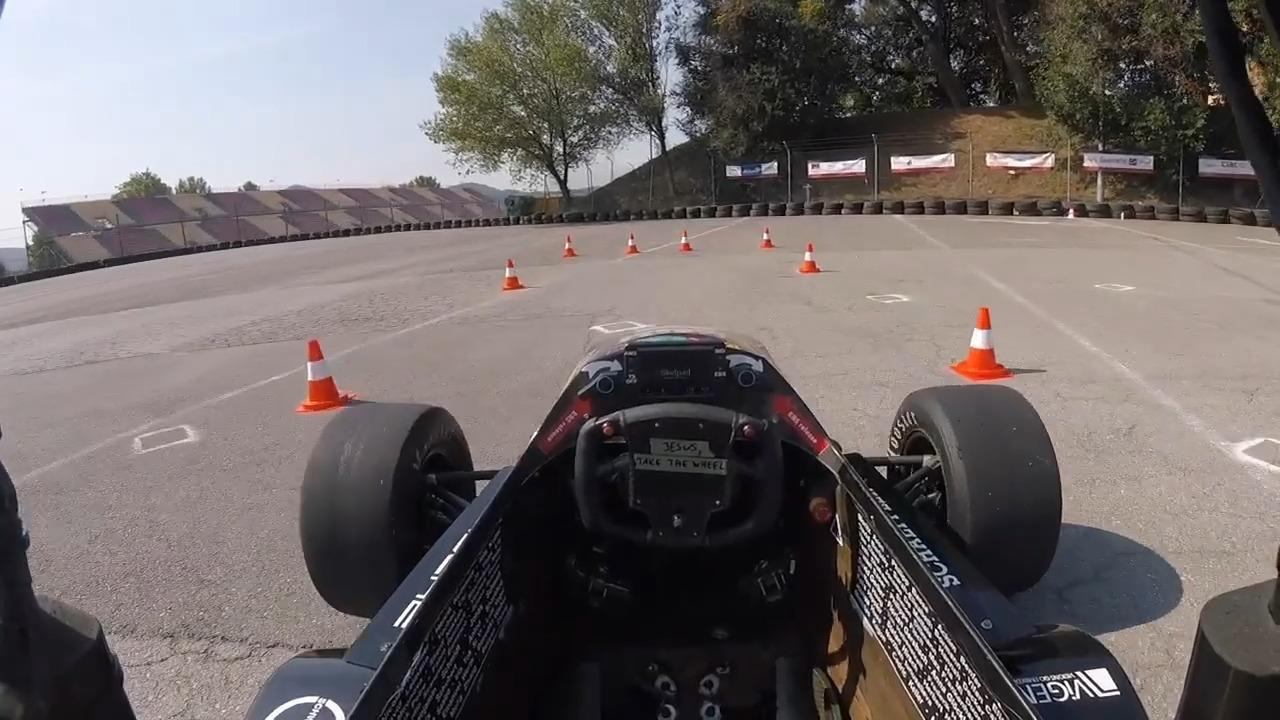orange_cone: (952, 308, 1012, 382), (295, 340, 354, 414), (500, 258, 525, 291), (799, 243, 820, 273), (677, 231, 694, 251), (760, 227, 775, 249), (563, 237, 578, 258), (626, 233, 640, 254)
